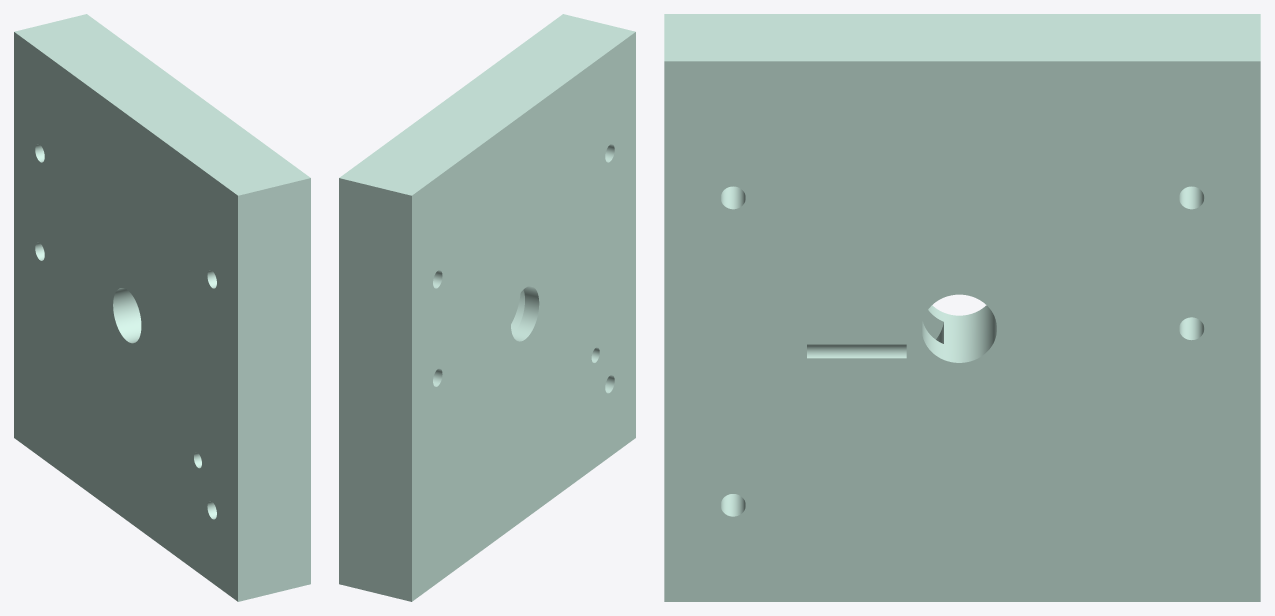
The picture shows the model from 3 angles, left to right: view 1: azimuth 30°, elevation 25°; view 2: azimuth 150°, elevation 25°; view 3: azimuth 270°, elevation 25°; orthographic projection. The views are drawn at different scales.
Visible parts, largest first — view 1: Renderer Node; view 2: Renderer Node; view 3: Renderer Node.
Part boxes in pixels (box(x1,y1,x2,y2)): Renderer Node: box(14, 14, 310, 601); Renderer Node: box(339, 14, 635, 601); Renderer Node: box(664, 14, 1260, 601).
Size of the model in its own units: 0.2813 by 1.5 by 1.5.
